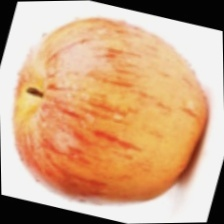apple: (25, 10, 207, 199)
